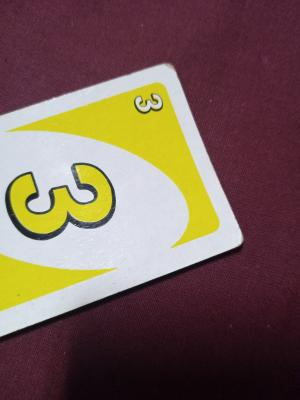num_3: (4, 142, 120, 270), (129, 83, 166, 168)
